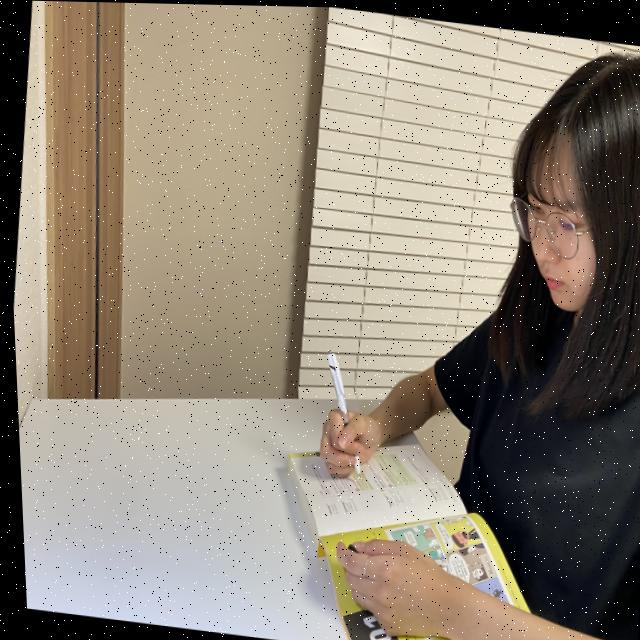studying-person: (241, 4, 640, 640)
